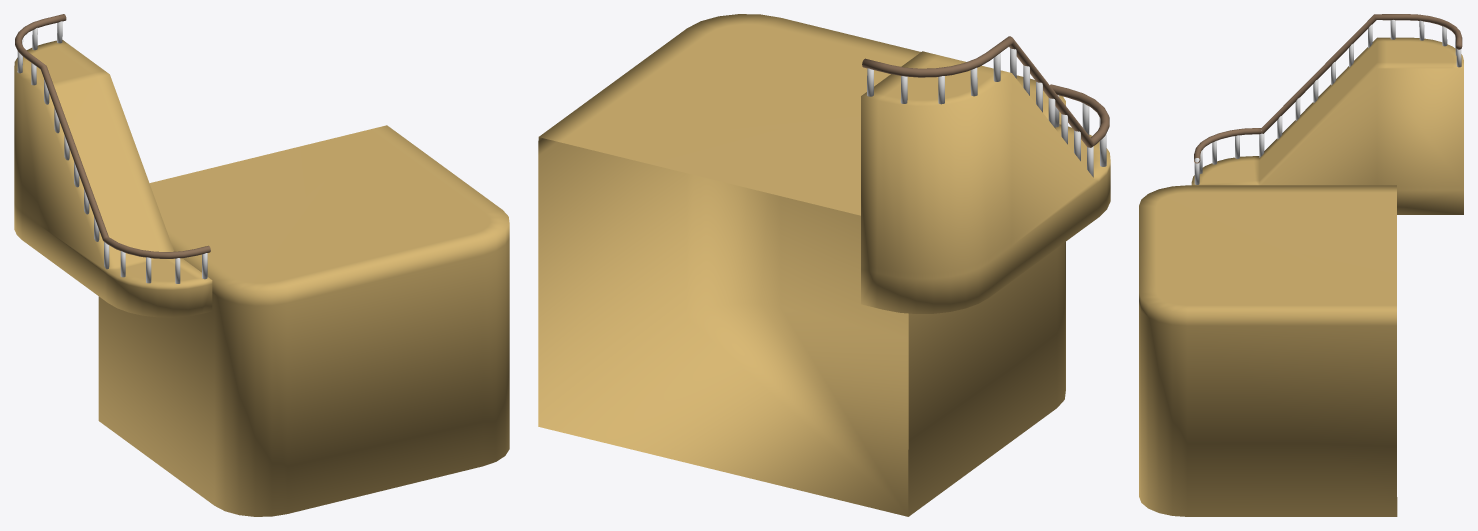
Rendered from Map_04_Pan.fbx.
3 views of the same model, side by side, from view 1: azimuth 30°, elevation 25°; view 2: azimuth 150°, elevation 25°; view 3: azimuth 270°, elevation 25° (orthographic). The views are drawn at different scales.
Visible parts, largest first — view 1: Map_land_04_Pan; view 2: Map_land_04_Pan; view 3: Map_land_04_Pan.
Part boxes in pixels (box(x1,y1,x2,y2)): Map_land_04_Pan: box(14, 14, 509, 516); Map_land_04_Pan: box(538, 14, 1110, 516); Map_land_04_Pan: box(1139, 14, 1463, 516).
Bounding box in the file's own units: 29.47 × 30.01 × 25.56.
